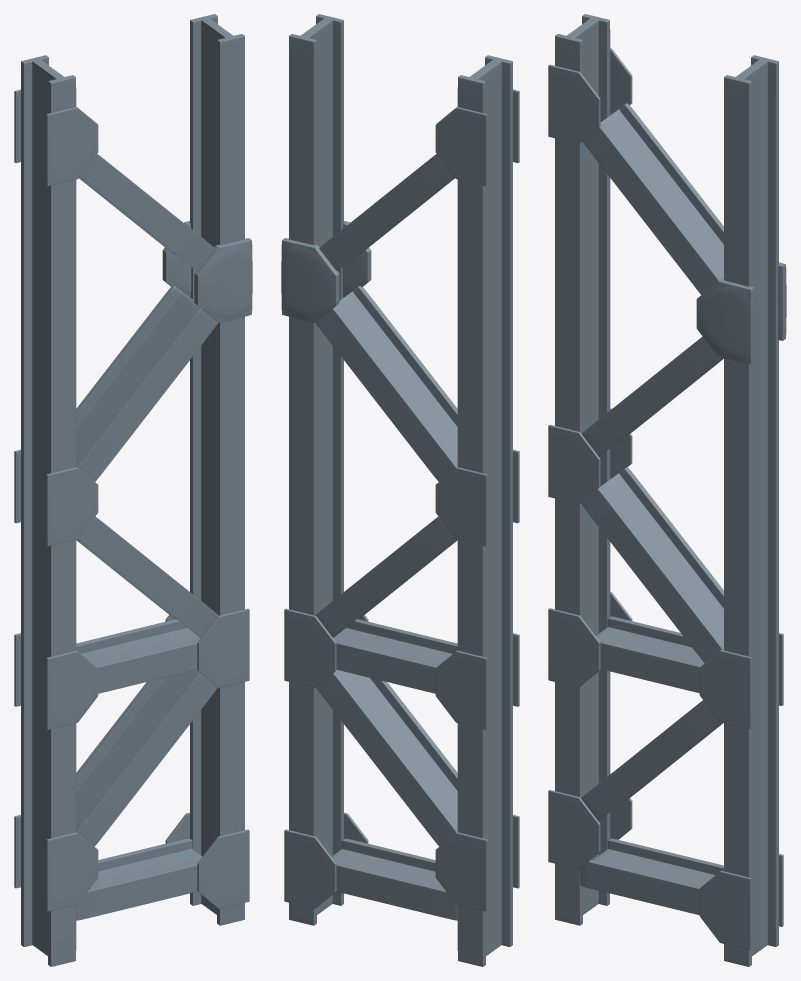
The model's file is metalBeams[-].fbx.
3 views of the same model, side by side, from view 1: azimuth 30°, elevation 25°; view 2: azimuth 150°, elevation 25°; view 3: azimuth 330°, elevation 25° (orthographic).
Parts seen in each view (by area): view 1: trussUpright.012, trussUpright.013, trussUpright.010, trussUpright.011, trussUpright.009, Plane.021, Plane.018, Plane.017, Plane.019, Plane.020, Plane.022, Plane.023; view 2: trussUpright.012, trussUpright.013, trussUpright.010, trussUpright.011, trussUpright.009, Plane.021, Plane.018, Plane.017, Plane.019, Plane.020, Plane.022, Plane.023; view 3: trussUpright.013, trussUpright.012, trussUpright.010, trussUpright.011, trussUpright.009, Plane.021, Plane.018, Plane.020, Plane.019, Plane.023, Plane.022, Plane.017.
Boxes of the visible parts, bbox=[...] form: trussUpright.012: bbox=[21, 55, 76, 966]; trussUpright.013: bbox=[190, 14, 244, 925]; trussUpright.010: bbox=[76, 154, 218, 846]; trussUpright.011: bbox=[76, 838, 202, 920]; trussUpright.009: bbox=[76, 619, 200, 693]; Plane.021: bbox=[162, 221, 252, 322]; Plane.018: bbox=[14, 89, 98, 186]; Plane.017: bbox=[14, 633, 98, 729]; Plane.019: bbox=[14, 449, 98, 546]; Plane.020: bbox=[14, 815, 98, 911]; Plane.022: bbox=[165, 812, 249, 908]; Plane.023: bbox=[165, 608, 249, 687]; trussUpright.012: bbox=[457, 55, 512, 966]; trussUpright.013: bbox=[289, 14, 343, 925]; trussUpright.010: bbox=[315, 154, 457, 846]; trussUpright.011: bbox=[331, 838, 457, 920]; trussUpright.009: bbox=[333, 619, 457, 693]; Plane.021: bbox=[281, 221, 371, 322]; Plane.018: bbox=[435, 89, 519, 186]; Plane.017: bbox=[435, 633, 519, 729]; Plane.019: bbox=[435, 449, 519, 546]; Plane.020: bbox=[435, 815, 519, 911]; Plane.022: bbox=[284, 812, 368, 908]; Plane.023: bbox=[284, 608, 368, 687]; trussUpright.013: bbox=[724, 55, 778, 966]; trussUpright.012: bbox=[555, 14, 610, 925]; trussUpright.010: bbox=[581, 103, 723, 820]; trussUpright.011: bbox=[580, 838, 723, 915]; trussUpright.009: bbox=[596, 616, 704, 693]; Plane.021: bbox=[696, 262, 786, 363]; Plane.018: bbox=[548, 48, 632, 143]; Plane.020: bbox=[548, 773, 632, 869]; Plane.019: bbox=[548, 408, 632, 504]; Plane.023: bbox=[699, 633, 783, 729]; Plane.022: bbox=[699, 854, 783, 950]; Plane.017: bbox=[548, 592, 632, 687].
Bounding box in the file's own units: 96.65 × 29.91 × 400.
